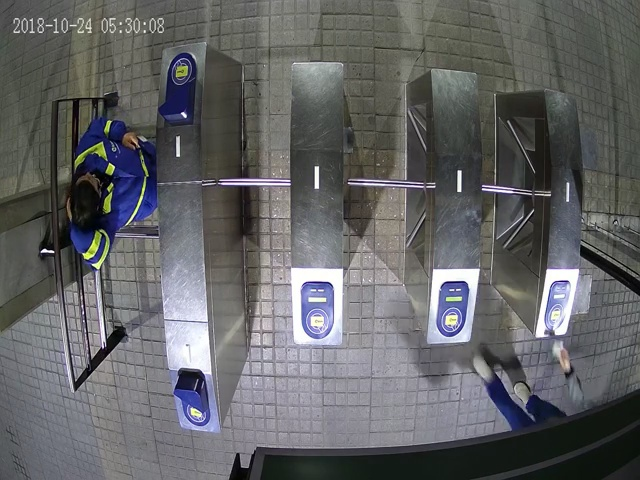Chaleco_azul: (65, 118, 159, 271)
